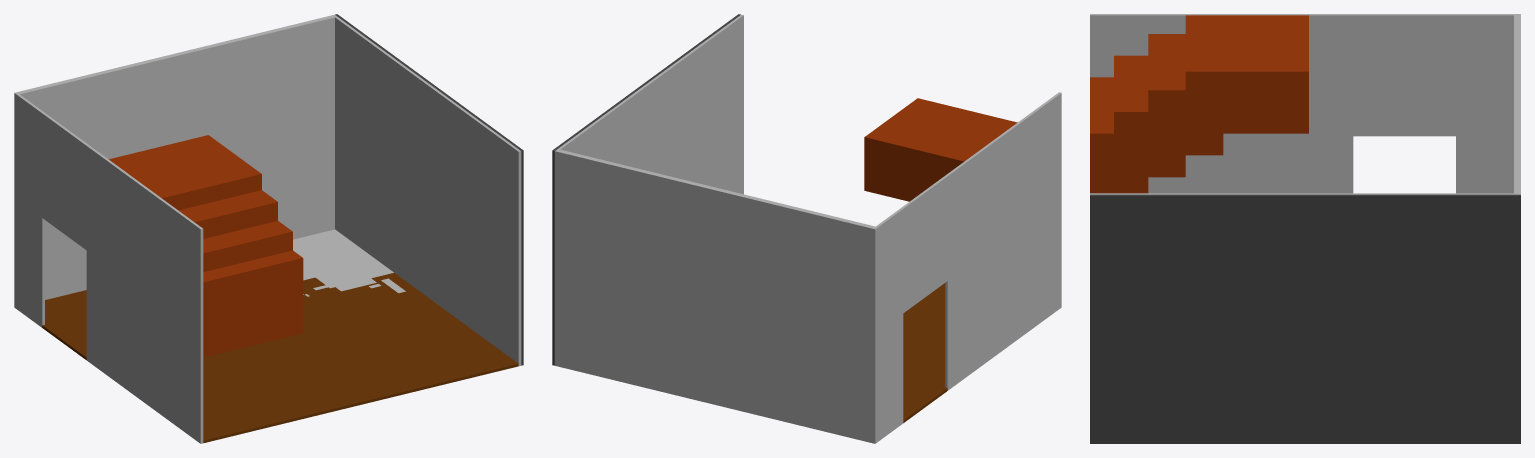
File: 4x2 first (2)-1.obj
The picture shows the model from 3 angles, left to right: view 1: azimuth 30°, elevation 25°; view 2: azimuth 150°, elevation 25°; view 3: azimuth 270°, elevation 25°; orthographic projection. The views are drawn at different scales.
Parts seen in each view (by area): view 1: 4x2 first (2)-1; view 2: 4x2 first (2)-1; view 3: 4x2 first (2)-1.
Part boxes in pixels (x1=…): 4x2 first (2)-1: x1=14, y1=14, x2=523, y2=443; 4x2 first (2)-1: x1=552, y1=14, x2=1061, y2=443; 4x2 first (2)-1: x1=1090, y1=14, x2=1520, y2=443.
Size of the model in its own units: 126 by 80 by 126.
1 material, 1 textured.
